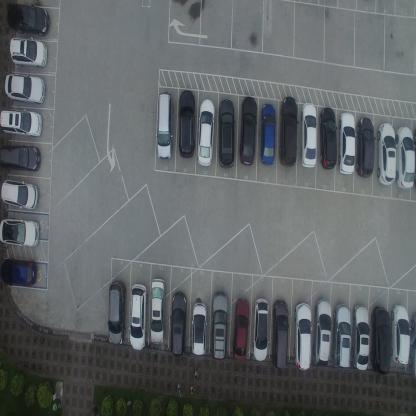car: (370, 304, 392, 375), (6, 3, 50, 37), (278, 95, 298, 167), (376, 121, 398, 186), (238, 95, 258, 166), (292, 301, 312, 372), (312, 298, 332, 366), (8, 35, 48, 69), (4, 72, 45, 105), (196, 97, 215, 168), (210, 291, 229, 361), (396, 124, 416, 189), (331, 303, 351, 368), (128, 282, 147, 350), (155, 91, 173, 162), (217, 98, 235, 169), (271, 298, 289, 369), (0, 216, 41, 247), (178, 89, 196, 159), (352, 302, 370, 372), (0, 178, 39, 210), (356, 116, 376, 178), (390, 303, 410, 365), (0, 142, 41, 172), (0, 109, 42, 138), (169, 290, 187, 357), (108, 279, 126, 345), (338, 110, 356, 175), (319, 106, 337, 170), (252, 298, 270, 362), (232, 298, 250, 362), (300, 101, 317, 168), (0, 257, 37, 287), (150, 278, 166, 344), (260, 102, 276, 167), (191, 300, 207, 356), (410, 312, 415, 379)
